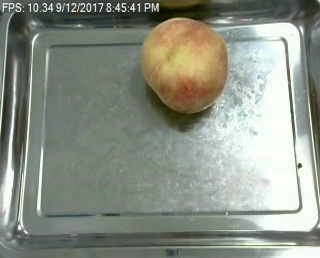Peach: (141, 15, 229, 113)
